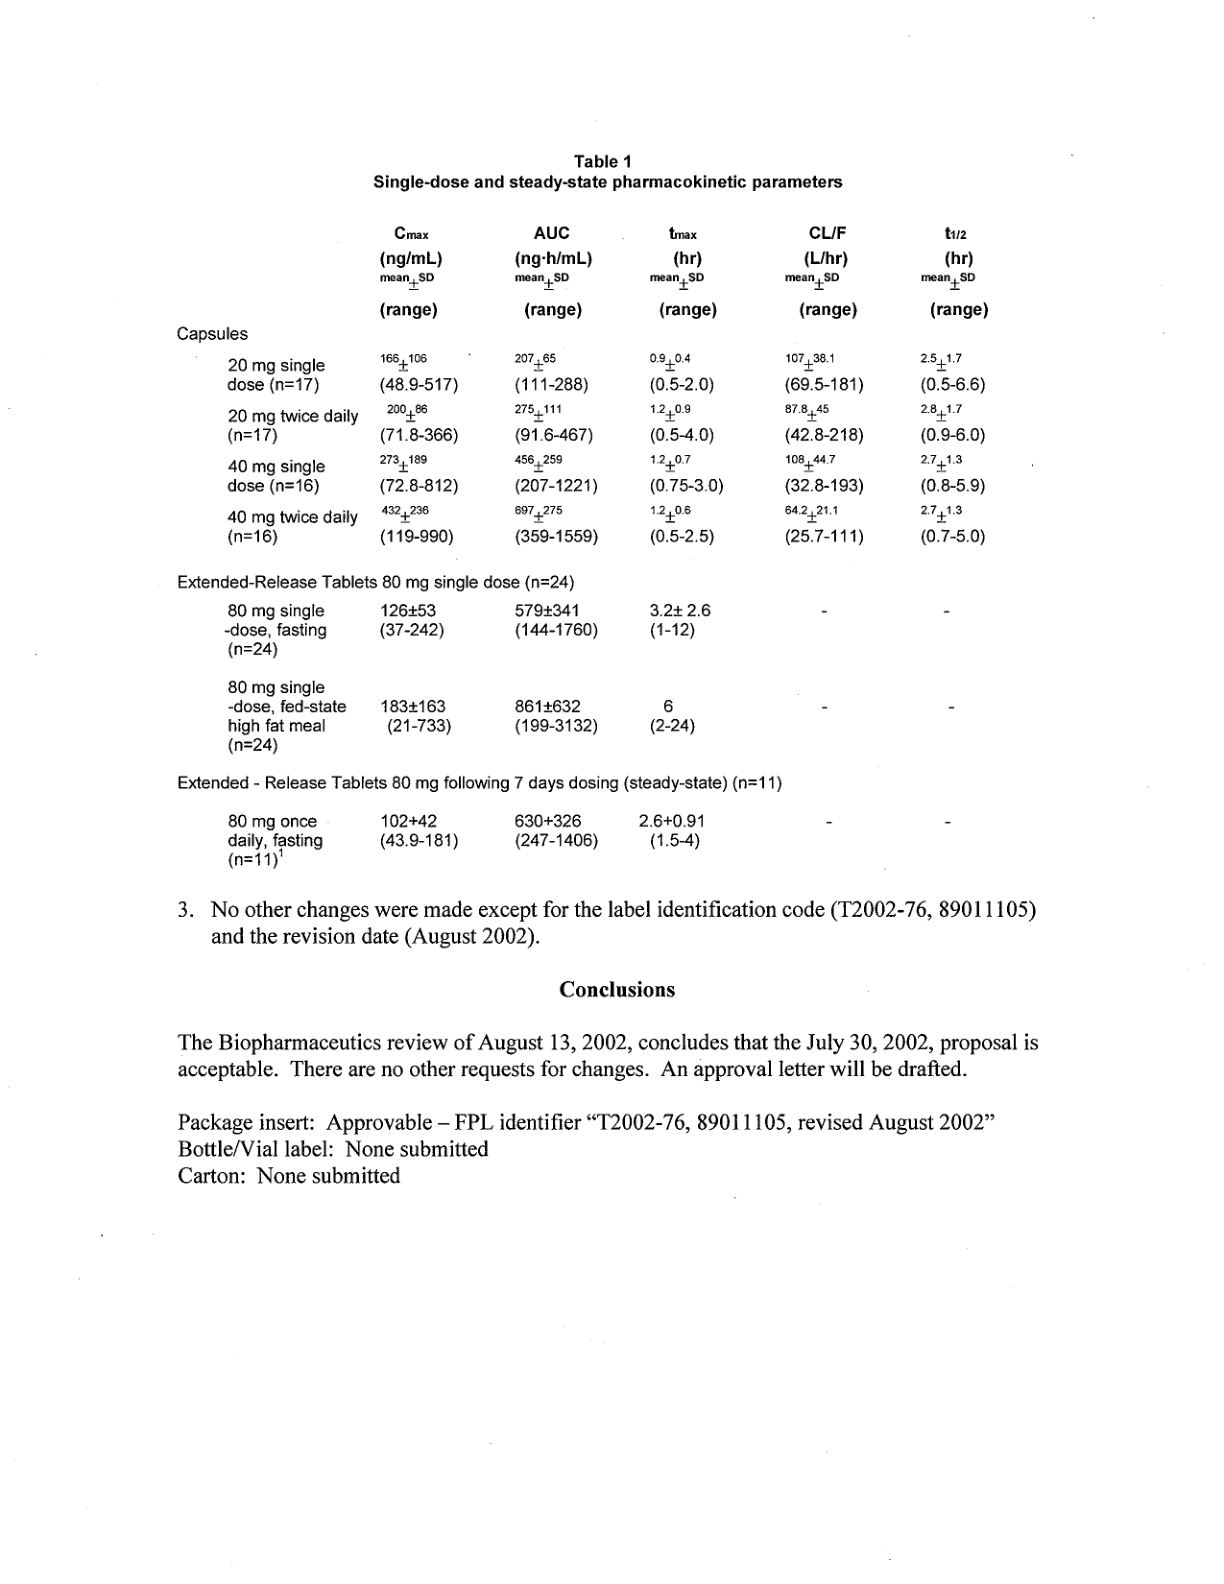nolines: (175, 226, 990, 870)
